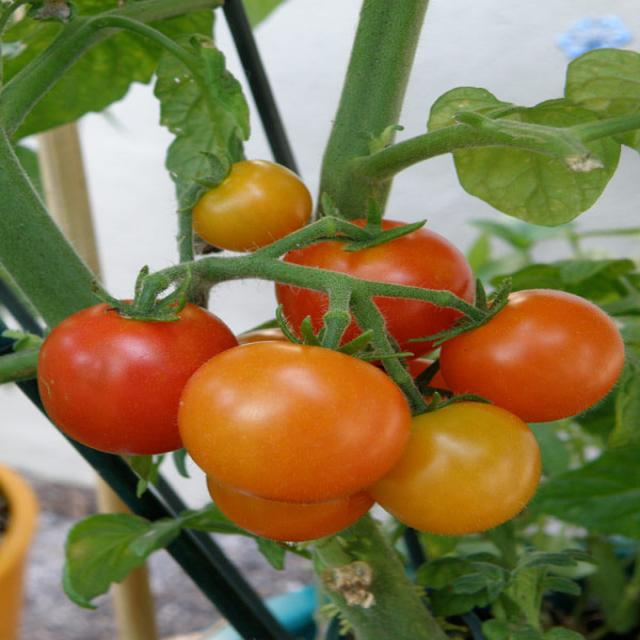level 4: (378, 402, 541, 535), (186, 162, 311, 249)
level 5: (182, 339, 406, 496), (207, 422, 379, 544)
level 6: (32, 300, 238, 458), (280, 222, 476, 362), (442, 288, 627, 421)
